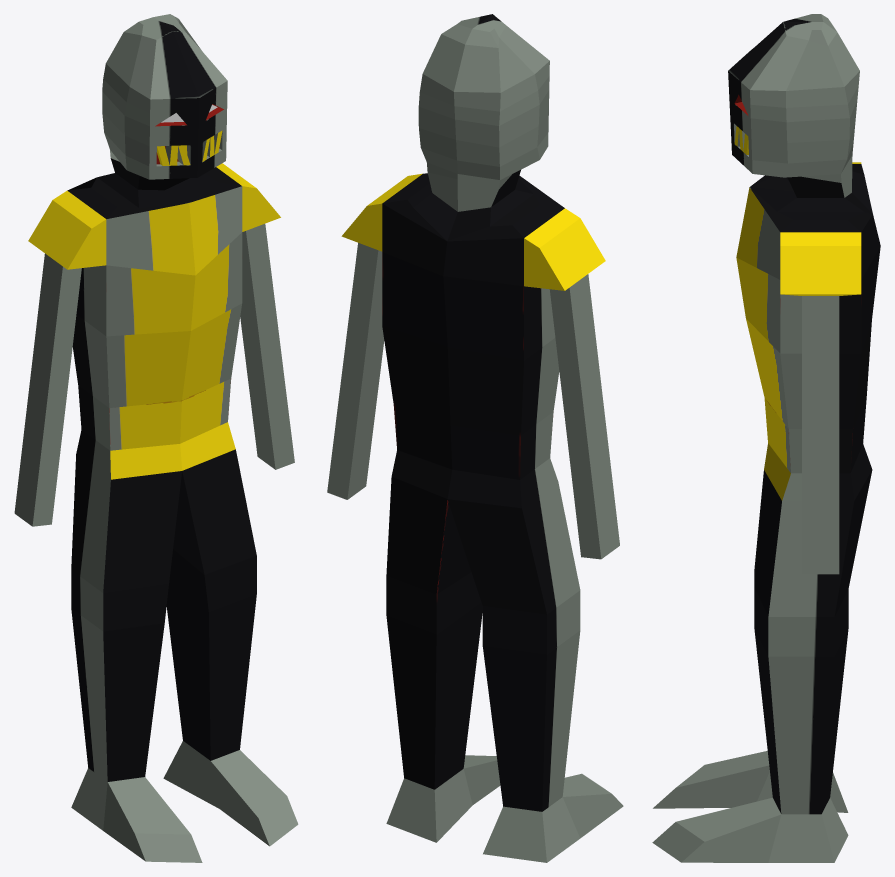
File: scarecrow.fbx
The picture shows the model from 3 angles, left to right: view 1: azimuth 30°, elevation 25°; view 2: azimuth 150°, elevation 25°; view 3: azimuth 270°, elevation 25°; orthographic projection. The views are drawn at different scales.
Parts seen in each view (by area): view 1: Cube; view 2: Cube; view 3: Cube.
Part boxes in pixels (x1,y1,x2,y2): Cube: [14, 14, 298, 862]; Cube: [327, 14, 623, 862]; Cube: [652, 14, 880, 862].
Size of the model in its own units: 259 by 732 by 189.
Materials: 1 (1 with a texture image).
